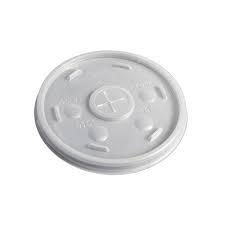Liquid: (28, 42, 200, 195)
